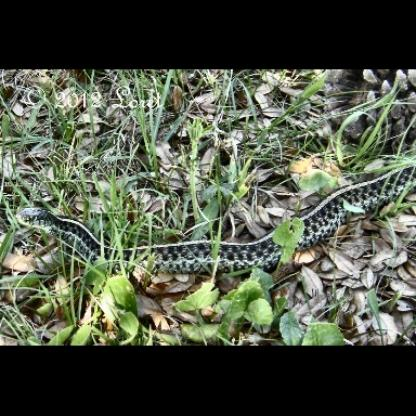Snake: (17, 162, 416, 285)
